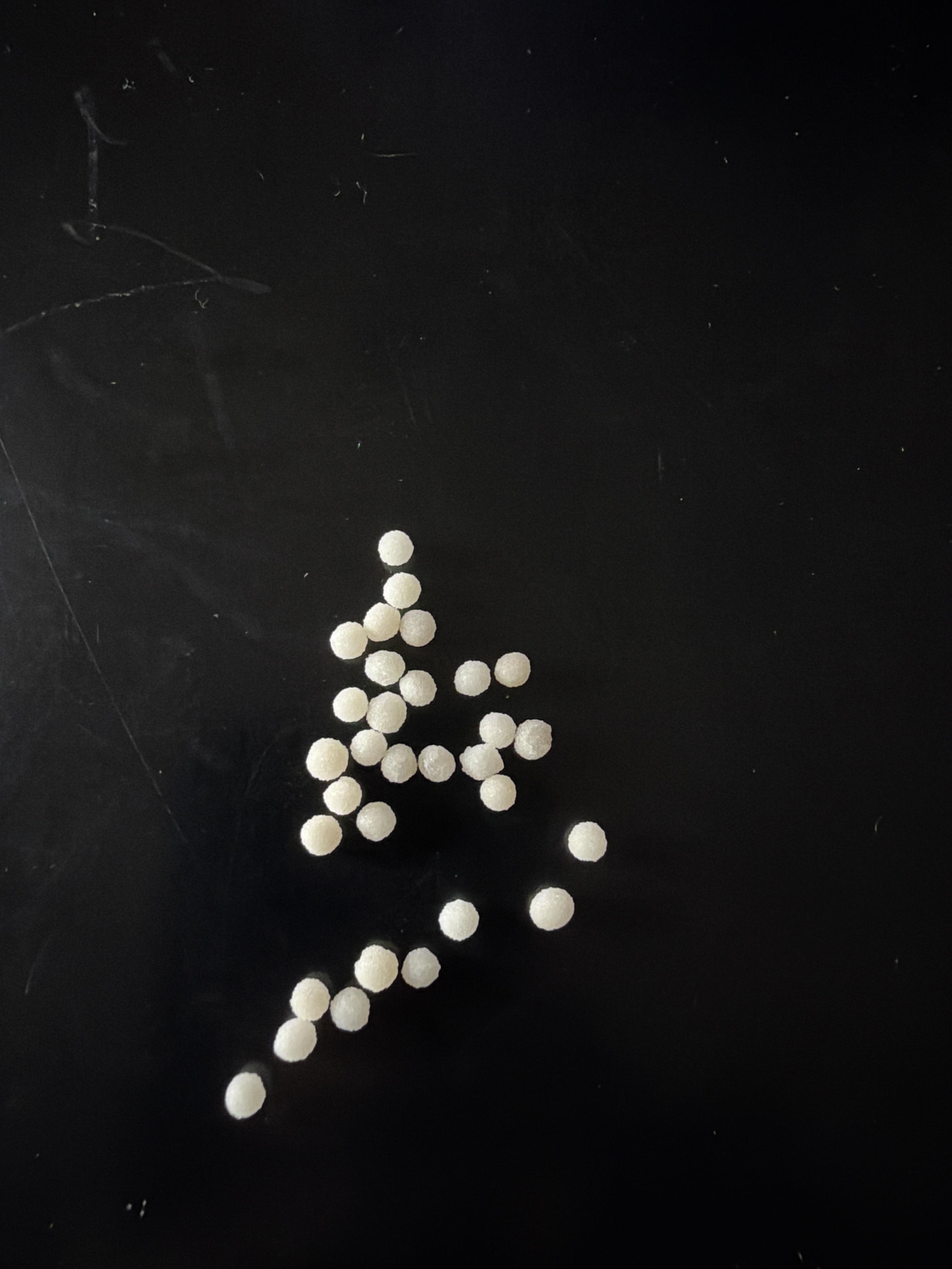pill: (354, 944, 399, 993), (224, 1071, 266, 1119), (529, 887, 574, 931), (273, 1017, 316, 1062), (290, 976, 330, 1023), (306, 737, 348, 781), (330, 987, 370, 1032), (300, 814, 342, 856), (438, 899, 479, 941), (366, 691, 407, 733), (355, 801, 396, 842), (567, 821, 607, 861), (401, 947, 440, 988), (460, 744, 503, 781), (514, 719, 552, 760), (323, 776, 362, 815), (364, 650, 405, 686), (363, 603, 400, 642), (380, 744, 417, 783), (418, 745, 456, 782), (330, 621, 367, 659), (383, 572, 421, 609), (479, 774, 516, 811), (350, 729, 387, 766), (400, 609, 436, 647), (479, 713, 516, 749), (400, 670, 436, 707), (454, 660, 491, 696), (332, 687, 368, 723), (494, 652, 530, 688), (378, 530, 413, 567)
